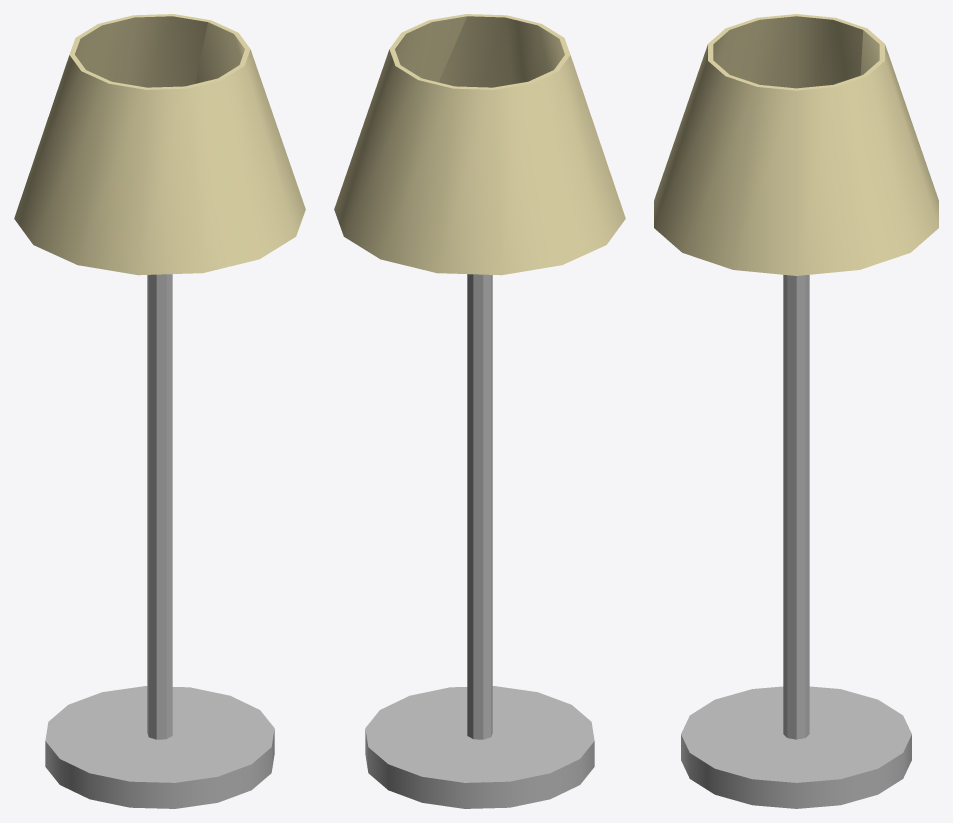
The model's file is standerlampe.fbx.
The picture shows the model from 3 angles, left to right: view 1: azimuth 30°, elevation 25°; view 2: azimuth 150°, elevation 25°; view 3: azimuth 270°, elevation 25°; orthographic projection.
Parts seen in each view (by area): view 1: pCylinder6; view 2: pCylinder6; view 3: pCylinder6.
Boxes of the visible parts, x1=… form: pCylinder6: x1=14, y1=14, x2=305, y2=808; pCylinder6: x1=334, y1=14, x2=625, y2=808; pCylinder6: x1=654, y1=14, x2=938, y2=808.
Size of the model in its own units: 1.14 by 3.05 by 1.11.
